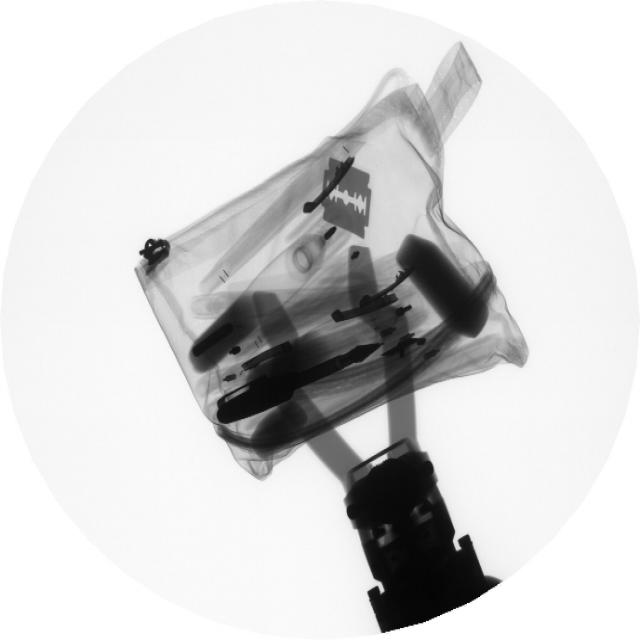BLADE: (312, 153, 379, 247)
